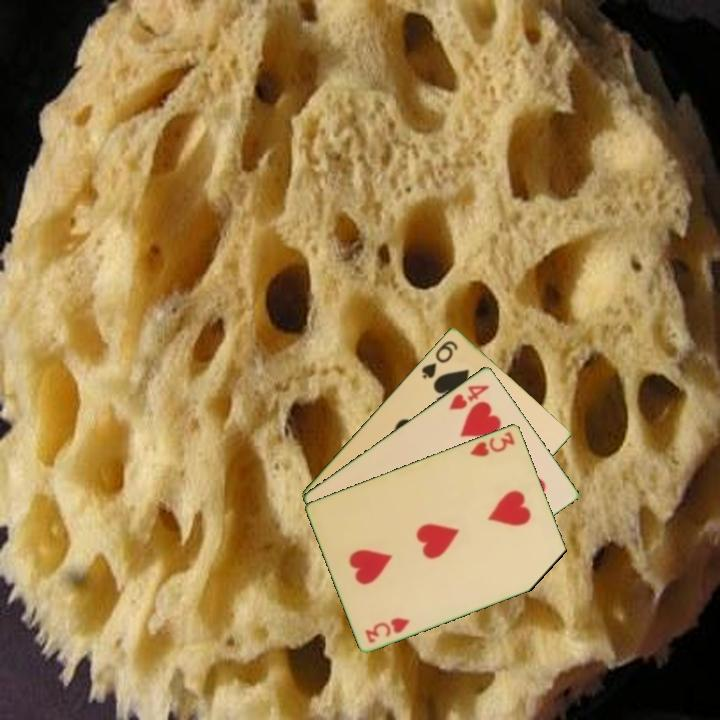3h: (362, 614, 413, 646), (467, 428, 518, 459)
4h: (445, 381, 492, 413)
6s: (418, 336, 461, 381)
